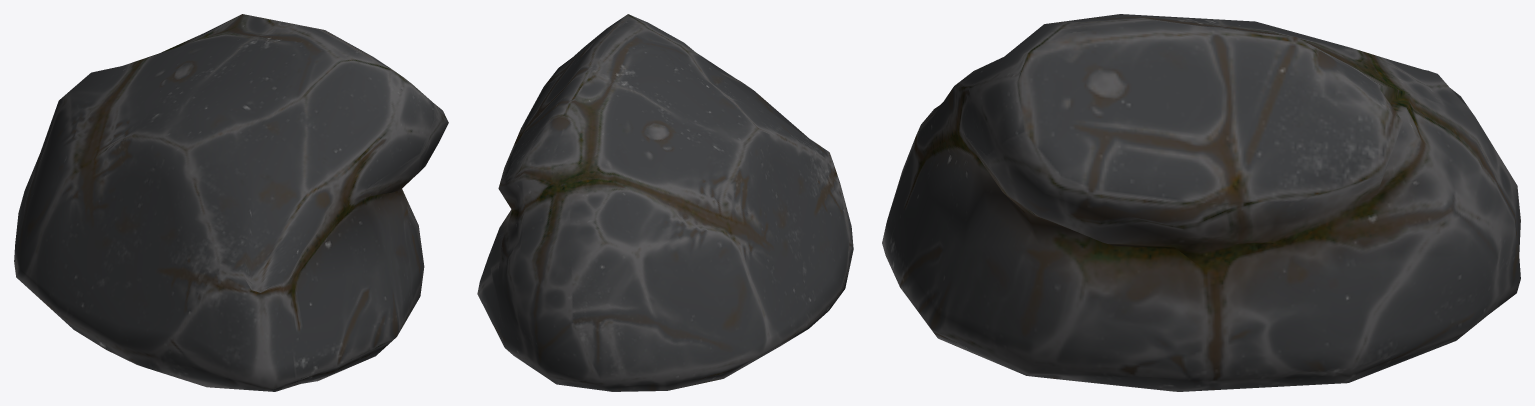
File: rock_02.glb
The picture shows the model from 3 angles, left to right: view 1: azimuth 30°, elevation 25°; view 2: azimuth 150°, elevation 25°; view 3: azimuth 270°, elevation 25°; orthographic projection. The views are drawn at different scales.
Parts seen in each view (by area): view 1: rock3_low; view 2: rock3_low; view 3: rock3_low.
Part boxes in pixels (x1,y1,x2,y2): rock3_low: (14, 14, 448, 391); rock3_low: (477, 14, 853, 391); rock3_low: (882, 14, 1520, 391).
Bounding box in the file's own units: 2.55 × 1.92 × 3.33.
Materials: 1 (1 with a texture image).
